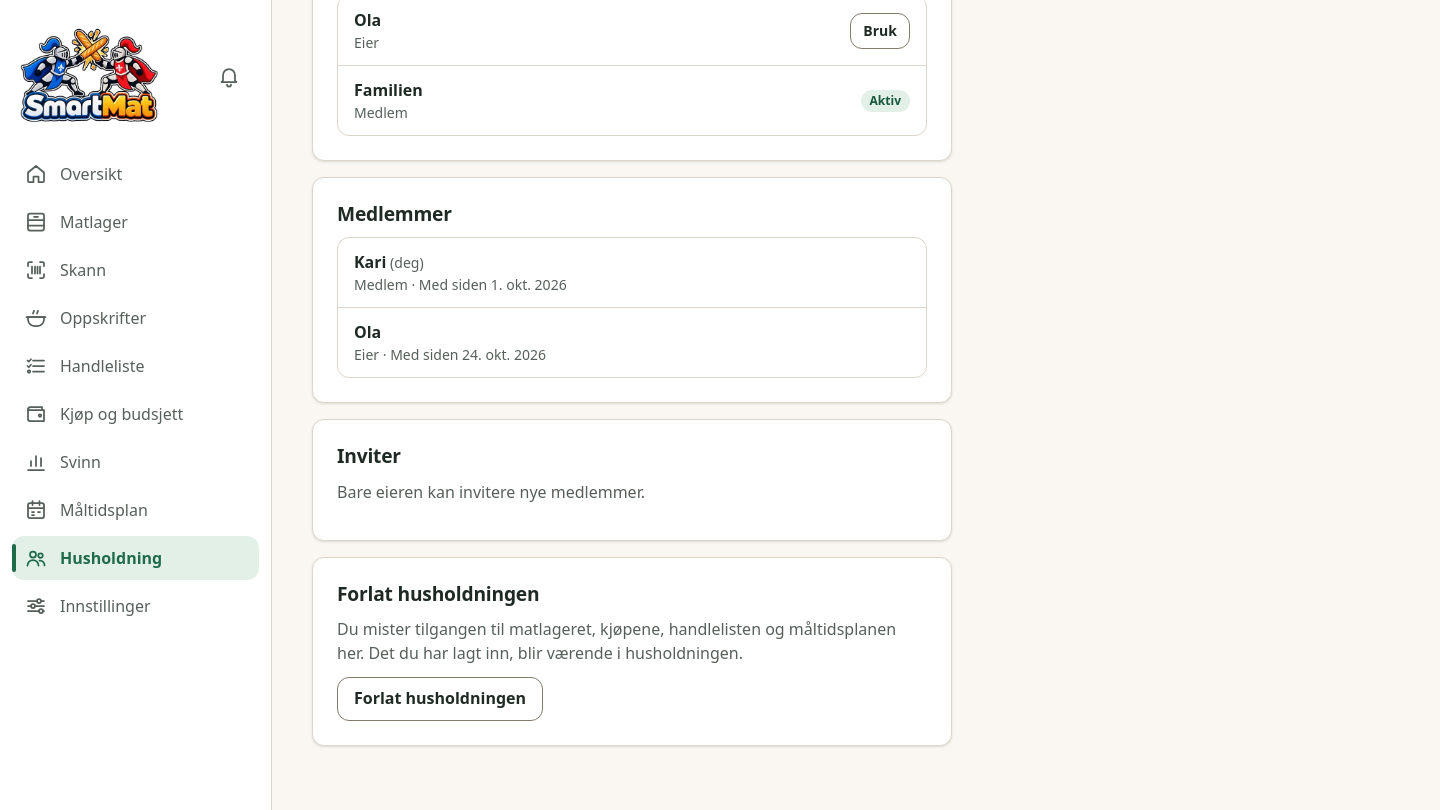
it: FR-HH-003 member view › FR-HH-005: leaving drops the household from the cache and says so
(page scrolled)
Click the button "Forlat husholdningen".
click(440, 698)  # box [337,676,543,720]
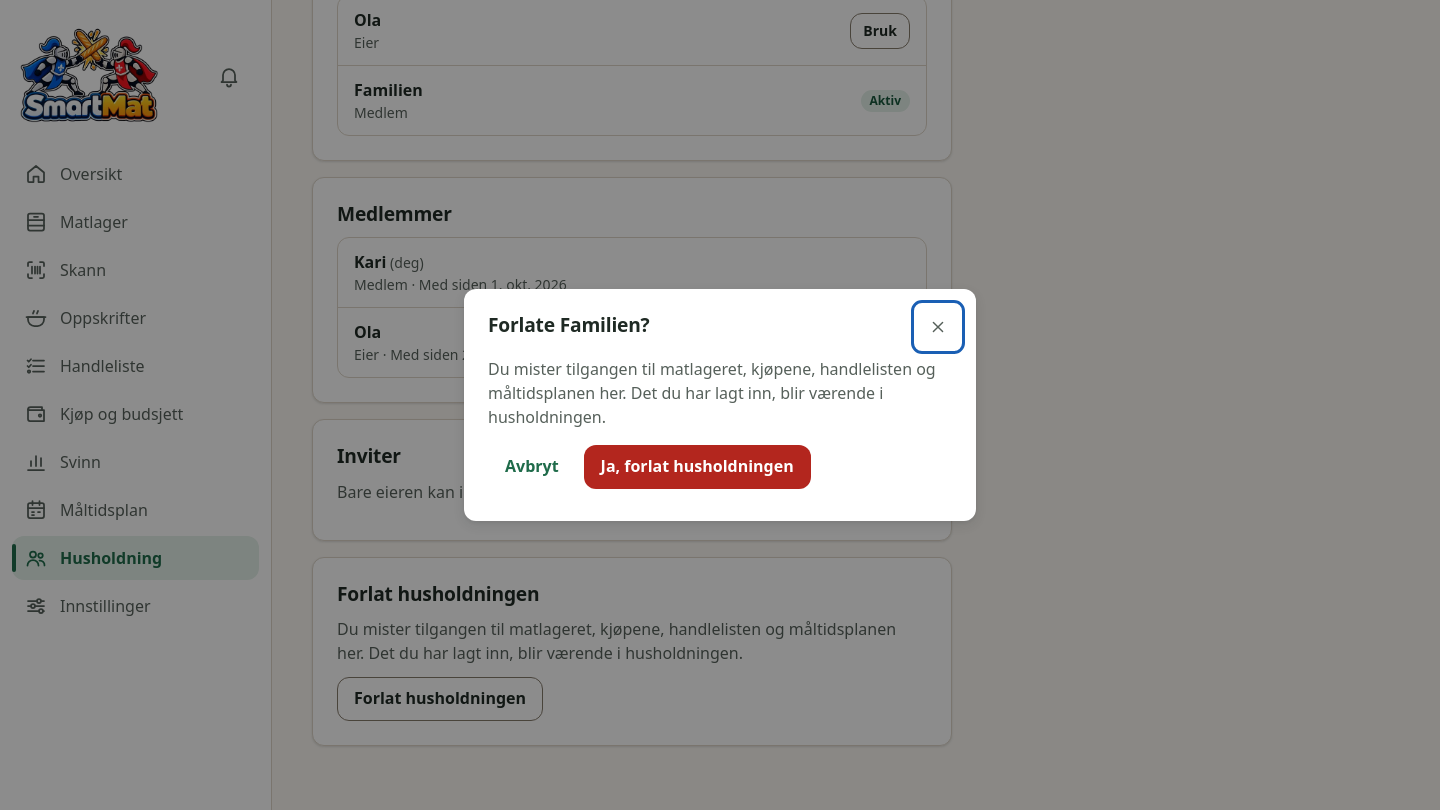
Click the button "Ja, forlat husholdningen".
click(697, 467)  # box [584,445,811,489]
(page scrolled)
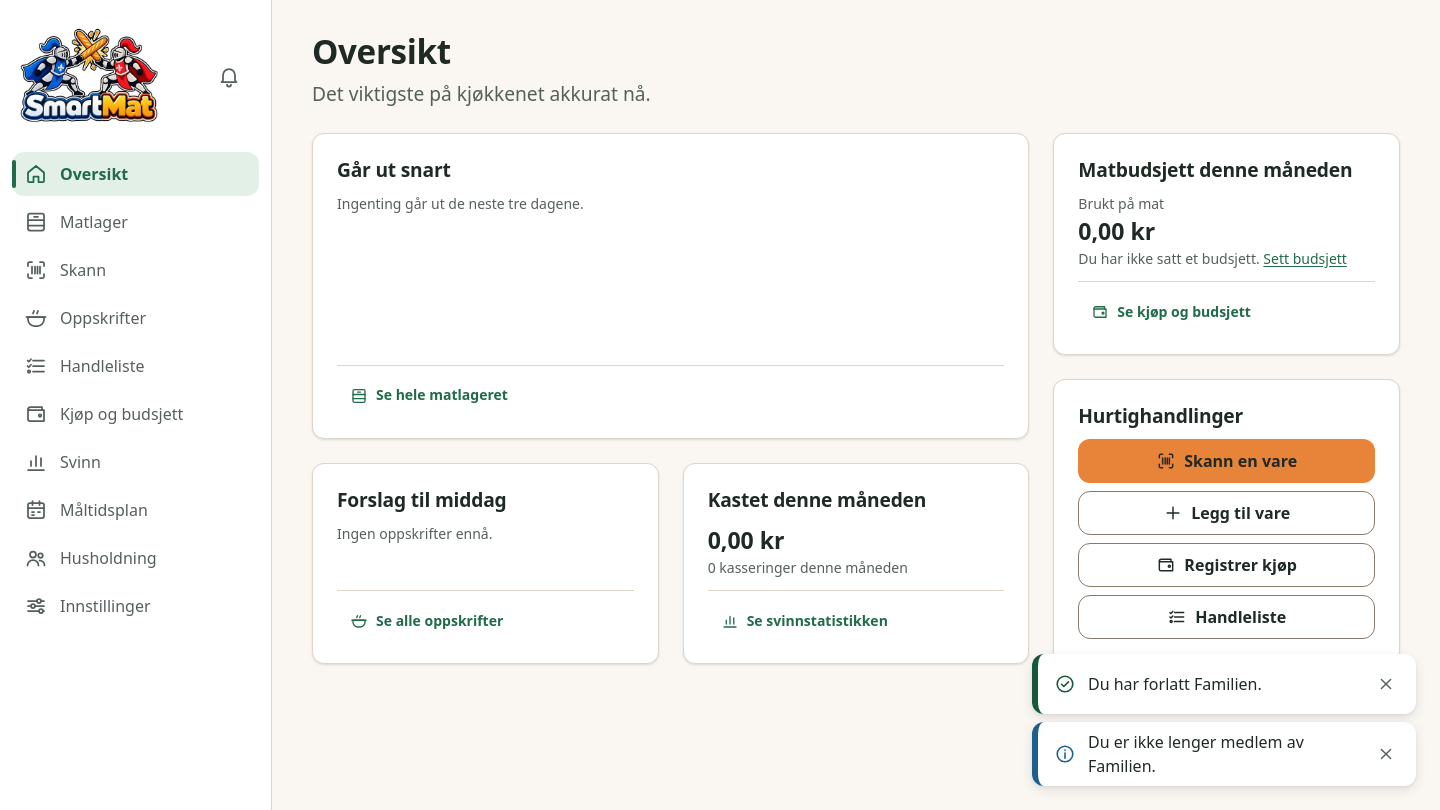
Now the text "Du er ikke lenger medlem av Familien." is shown, box [1087,730,1304,777]
